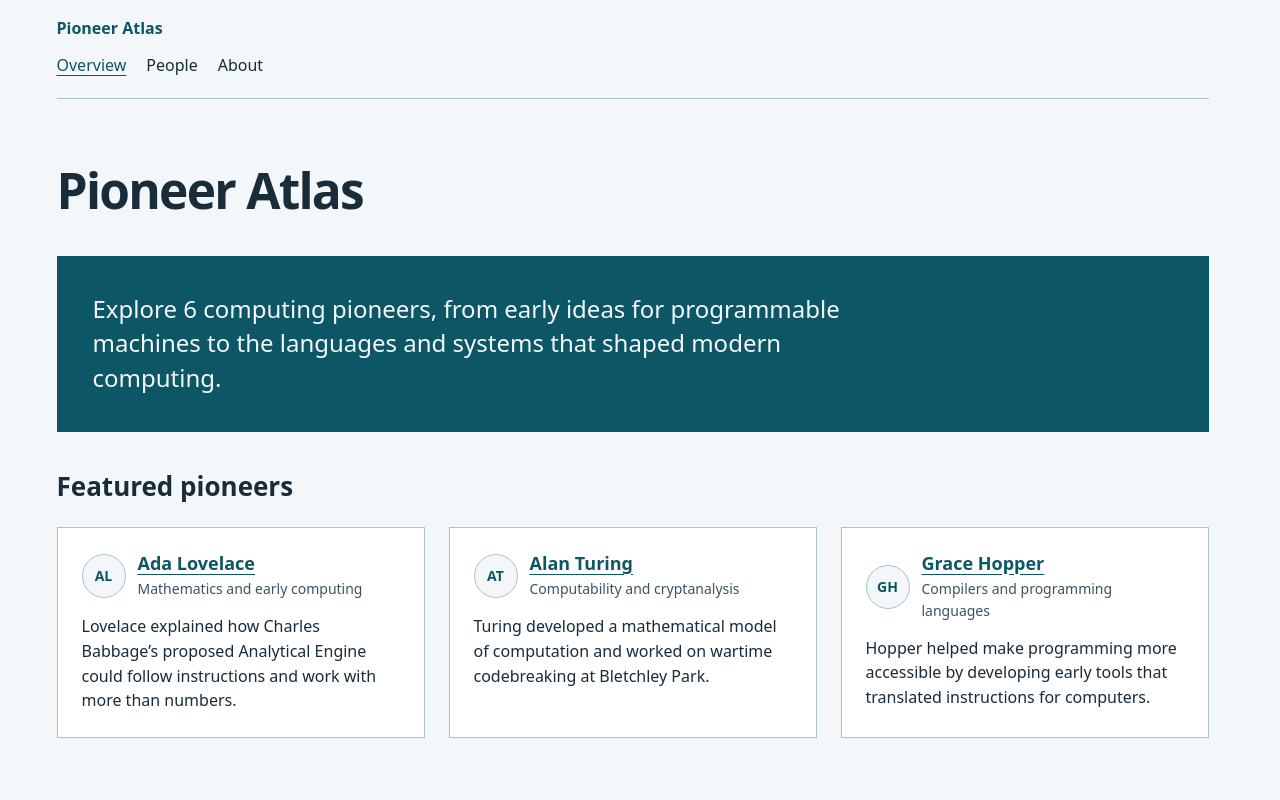
lazy application routes › supports Back and Forward through the real BrowserRouter
Later steps or results of the test are not shown.
Expected: the heading "Pioneer Atlas" is shown, [56, 156, 363, 224]
What coordinates should you click on to do the following:
click the link "About"
I would click on:
 (240, 65)
Its box is [218, 49, 263, 82].
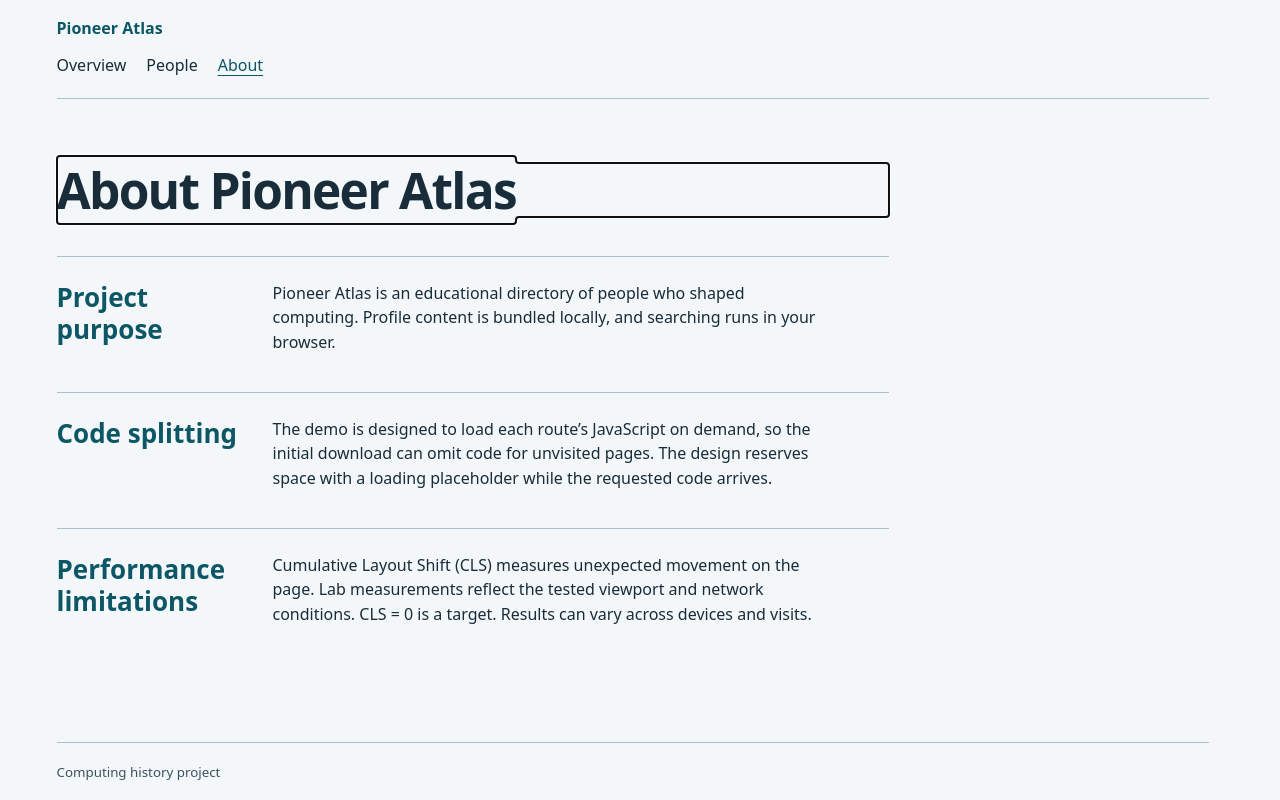
Result: the heading "About Pioneer Atlas" is shown at [56, 156, 516, 224]
